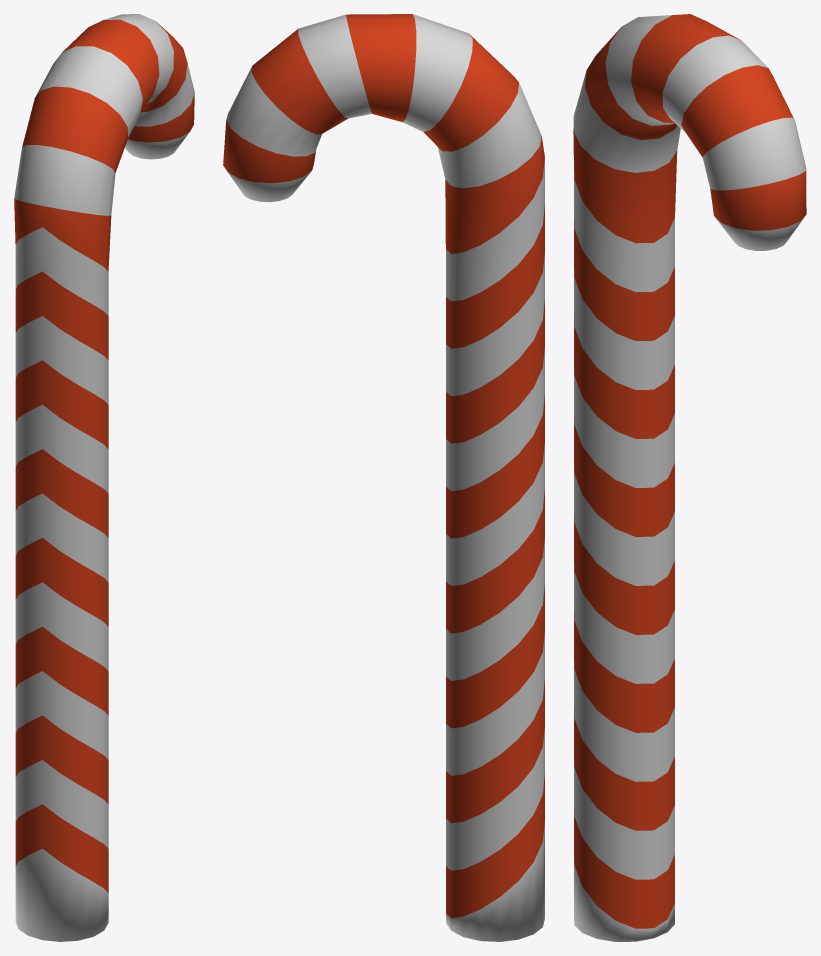
The model's file is candy_cane_wr3.fbx.
The picture shows the model from 3 angles, left to right: view 1: azimuth 30°, elevation 25°; view 2: azimuth 150°, elevation 25°; view 3: azimuth 270°, elevation 25°; orthographic projection. The views are drawn at different scales.
Parts seen in each view (by area): view 1: Cylinder; view 2: Cylinder; view 3: Cylinder.
Part boxes in pixels (box(x1,y1,x2,y2)): Cylinder: box(14, 14, 194, 941); Cylinder: box(223, 14, 544, 941); Cylinder: box(573, 14, 806, 941).
Bounding box in the file's own units: 535 × 1913 × 431.
